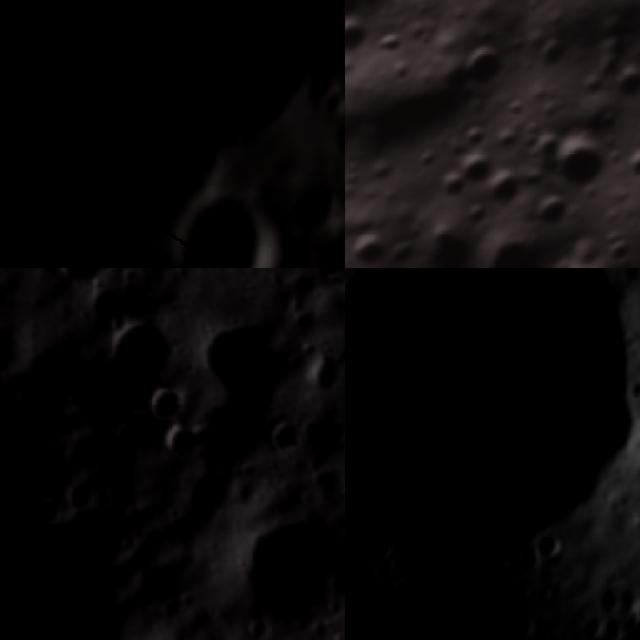crater: (0, 0, 345, 265), (0, 318, 211, 640), (228, 510, 345, 640), (155, 164, 299, 268), (427, 215, 583, 268), (538, 120, 622, 203), (442, 24, 519, 100), (290, 166, 345, 238), (530, 239, 640, 268), (518, 117, 573, 172), (452, 143, 500, 191), (530, 30, 578, 78), (429, 161, 477, 208), (590, 223, 640, 268), (162, 422, 202, 478), (43, 268, 120, 297), (600, 55, 640, 108), (345, 224, 393, 268), (140, 382, 180, 433), (531, 521, 568, 573), (60, 475, 100, 520), (453, 115, 495, 157), (345, 9, 375, 66), (260, 420, 300, 458), (306, 356, 342, 398), (614, 136, 640, 189), (461, 196, 496, 232), (322, 79, 345, 122), (330, 111, 345, 158)
